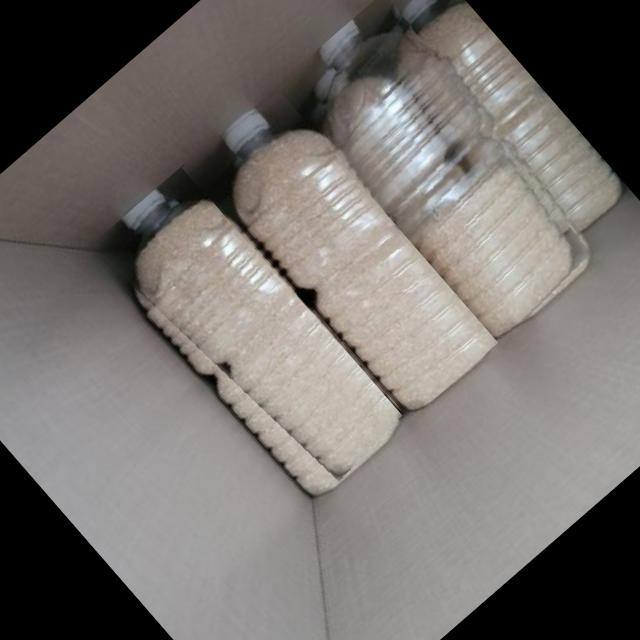plastic bottle: (275, 0, 609, 345), (182, 78, 508, 424), (91, 163, 408, 502)
